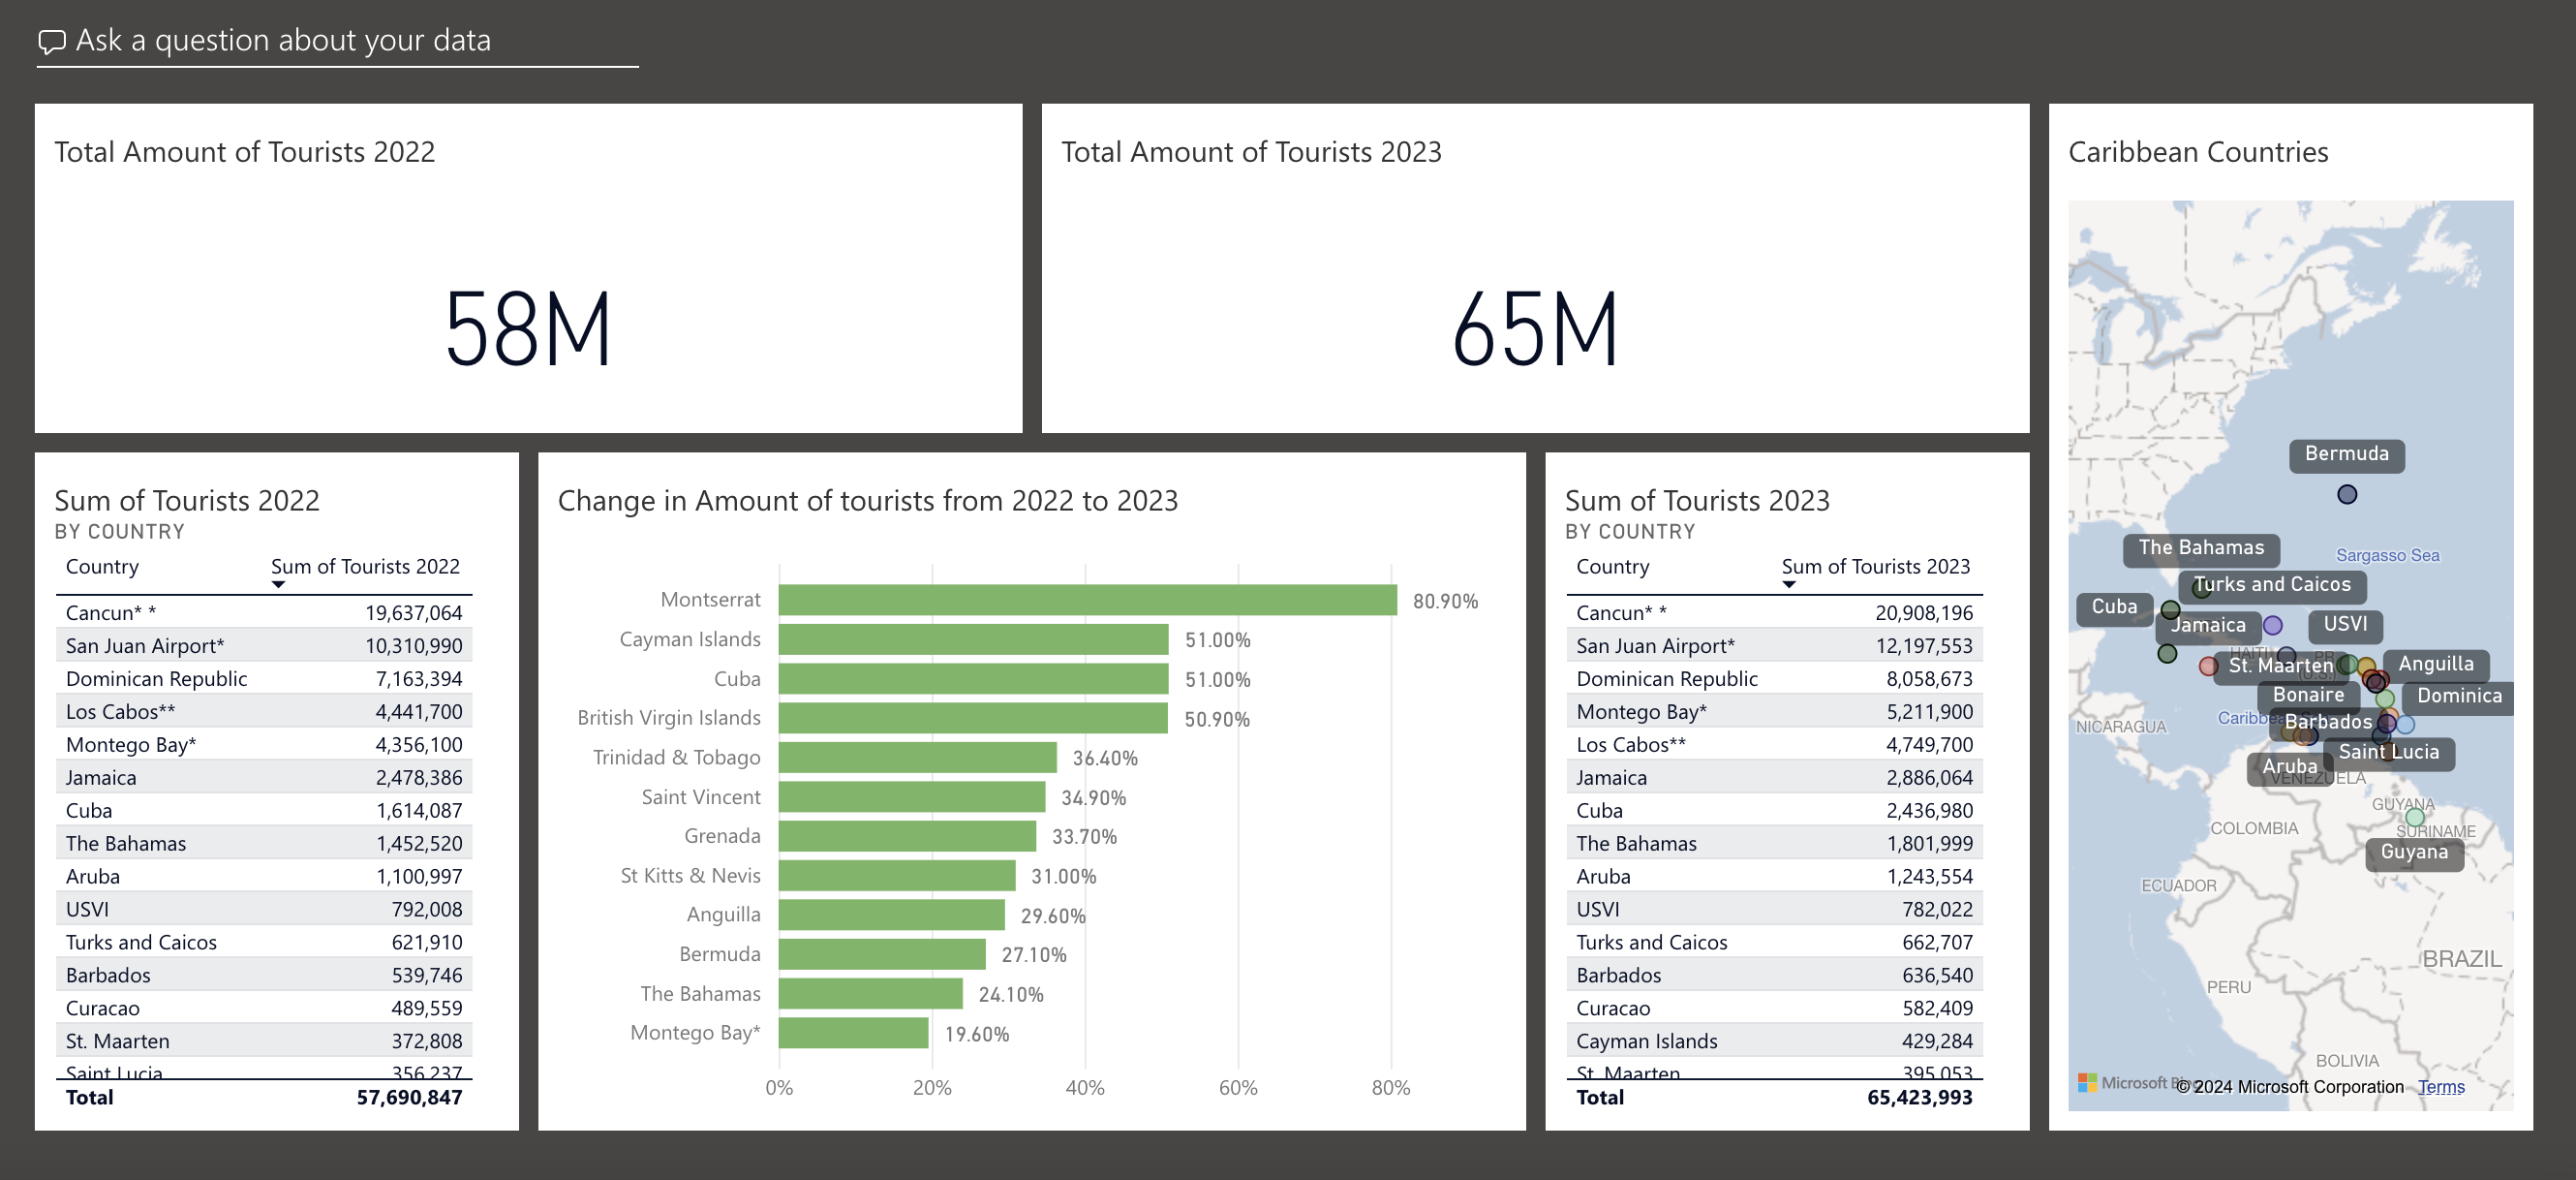

The page's visual inventory and layout, read from the dashboard file:
{"tool":"powerbi","page":{"name":"KPI","canvas":[1280,720],"ordinal":0},"visuals":[{"type":"card","fields":{"Values":["Caribbean Tourists.Total Amount of Tourists 2022"]},"box":[10.1,0,297.3,129.3],"z":0},{"type":"card","fields":{"Values":["Caribbean Tourists.Total Amount of Tourists 2023"]},"box":[982.7,0,297.3,147.8],"z":1},{"type":"card","fields":{"Values":["Caribbean Tourists.Average Change Amount of Tourists"]},"box":[490.5,1.7,297.3,127.7],"z":2},{"type":"clusteredBarChart","fields":{"Category":["Caribbean Tourists.Country"],"Y":["Sum(Caribbean Tourists.% change)"]},"box":[401.5,129.3,475.4,591.3],"z":3},{"type":"tableEx","fields":{"Values":["Caribbean Tourists.Country","Sum(Caribbean Tourists.2022)"]},"box":[25.2,129.3,268.8,591.3],"z":4},{"type":"tableEx","fields":{"Values":["Caribbean Tourists.Country","Sum(Caribbean Tourists.2023)"]},"box":[1004.5,147.8,255.3,572.8],"z":5}]}

Visuals, with their boxes on the page's 1280x720 design canvas (x1, y1, x2, y2). These are canvas units, not pixel positions in the 2576x1180 screenshot, which may show the page scaled, cropped or inside an application window:
card - Caribbean Tourists.Total Amount of Tourists 2022: [x1=10, y1=0, x2=307, y2=129]
card - Caribbean Tourists.Total Amount of Tourists 2023: [x1=983, y1=0, x2=1280, y2=148]
card - Caribbean Tourists.Average Change Amount of Tourists: [x1=490, y1=2, x2=788, y2=129]
clusteredBarChart - Caribbean Tourists.Country x Sum(Caribbean Tourists.% change): [x1=402, y1=129, x2=877, y2=721]
tableEx - Caribbean Tourists.Country x Sum(Caribbean Tourists.2022): [x1=25, y1=129, x2=294, y2=721]
tableEx - Caribbean Tourists.Country x Sum(Caribbean Tourists.2023): [x1=1004, y1=148, x2=1260, y2=721]
